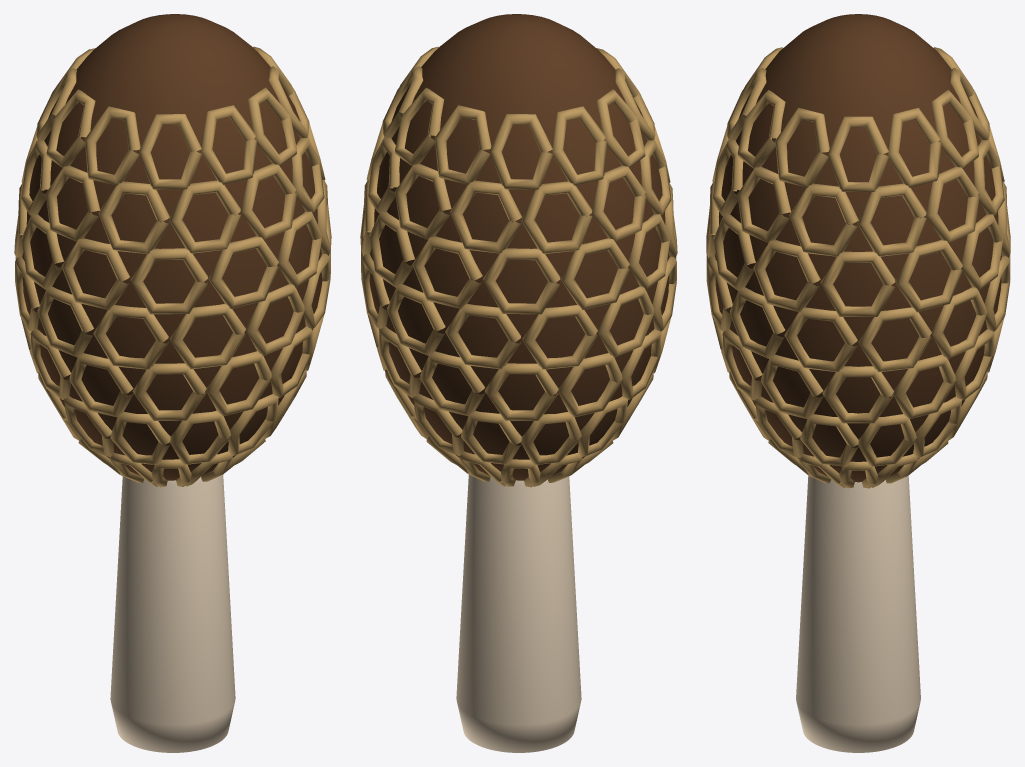
The model's file is morel.glb.
3 renders of one model, left to right at view 1: azimuth 30°, elevation 25°; view 2: azimuth 150°, elevation 25°; view 3: azimuth 270°, elevation 25°, orthographic.
Parts seen in each view (by area): view 1: morel; view 2: morel; view 3: morel.
Boxes of the visible parts, box(x1,y1,x2,y2) form: morel: box(14, 14, 331, 752); morel: box(360, 14, 677, 752); morel: box(706, 14, 1010, 752).
Size of the model in its own units: 0.4105 by 1 by 0.3909.
